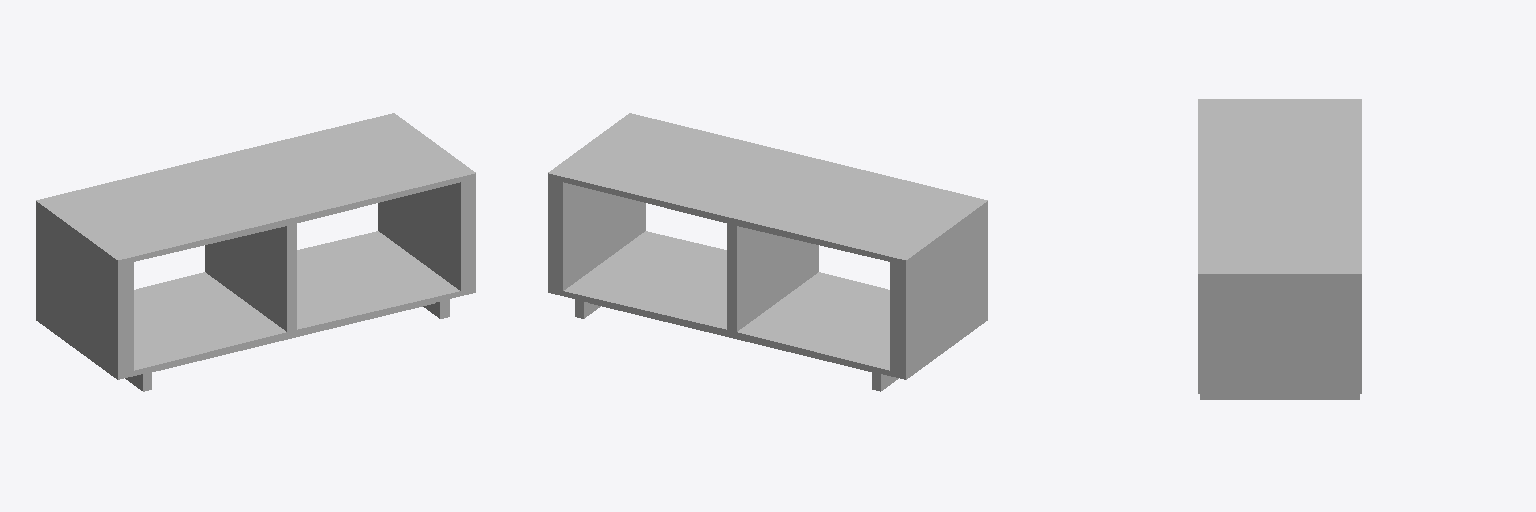
Rendered from basetablewood.obj.
The picture shows the model from 3 angles: view 1: azimuth 30°, elevation 25°; view 2: azimuth 150°, elevation 25°; view 3: azimuth 270°, elevation 25°; orthographic projection.
Parts seen in each view (by area): view 1: Cube, Cube.001; view 2: Cube, Cube.001; view 3: Cube, Cube.001.
Boxes of the visible parts, x1,y1,x2,y2 form: Cube: [36, 113, 475, 379]; Cube.001: [125, 299, 449, 391]; Cube: [548, 113, 987, 379]; Cube.001: [575, 299, 898, 391]; Cube: [1198, 99, 1361, 393]; Cube.001: [1200, 394, 1359, 399].
Bounding box in the file's own units: 9.97 × 3.68 × 3.96.